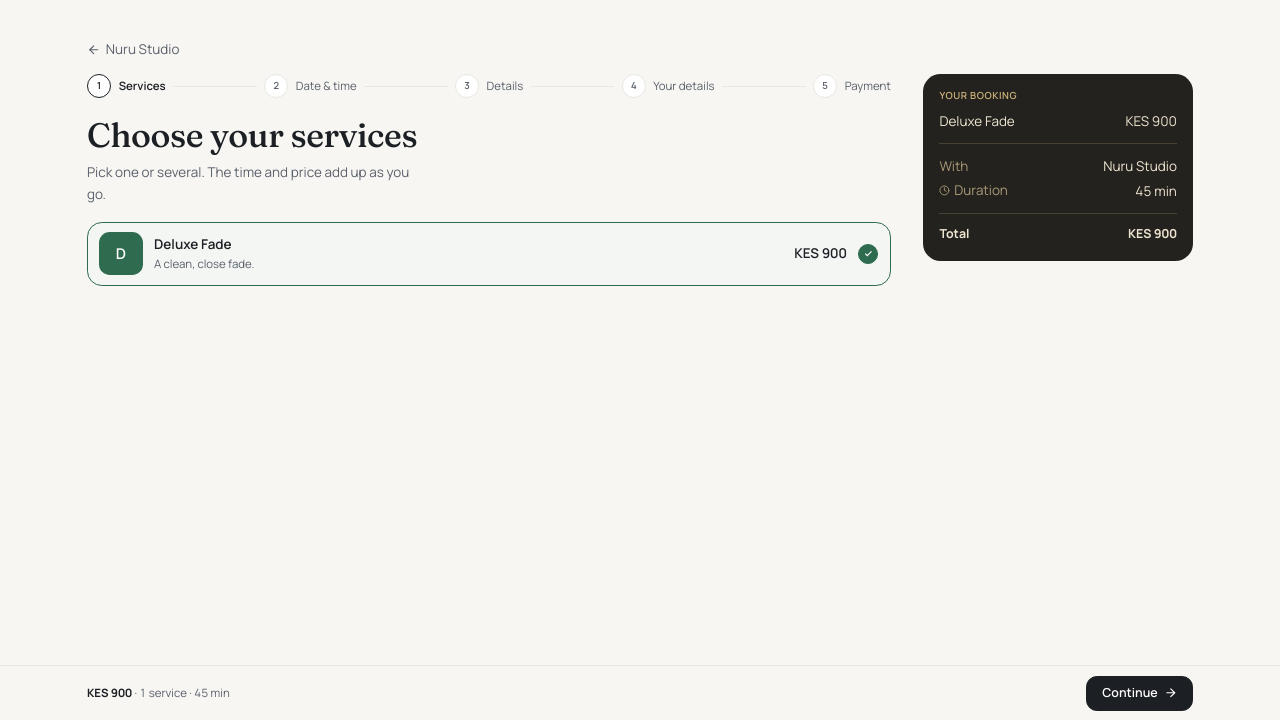
Scenario: BookingWizardPage › continues a solo booking without a render loop and goes back to services
Click the button "Continue": (1140, 693) [1086,676,1193,711]
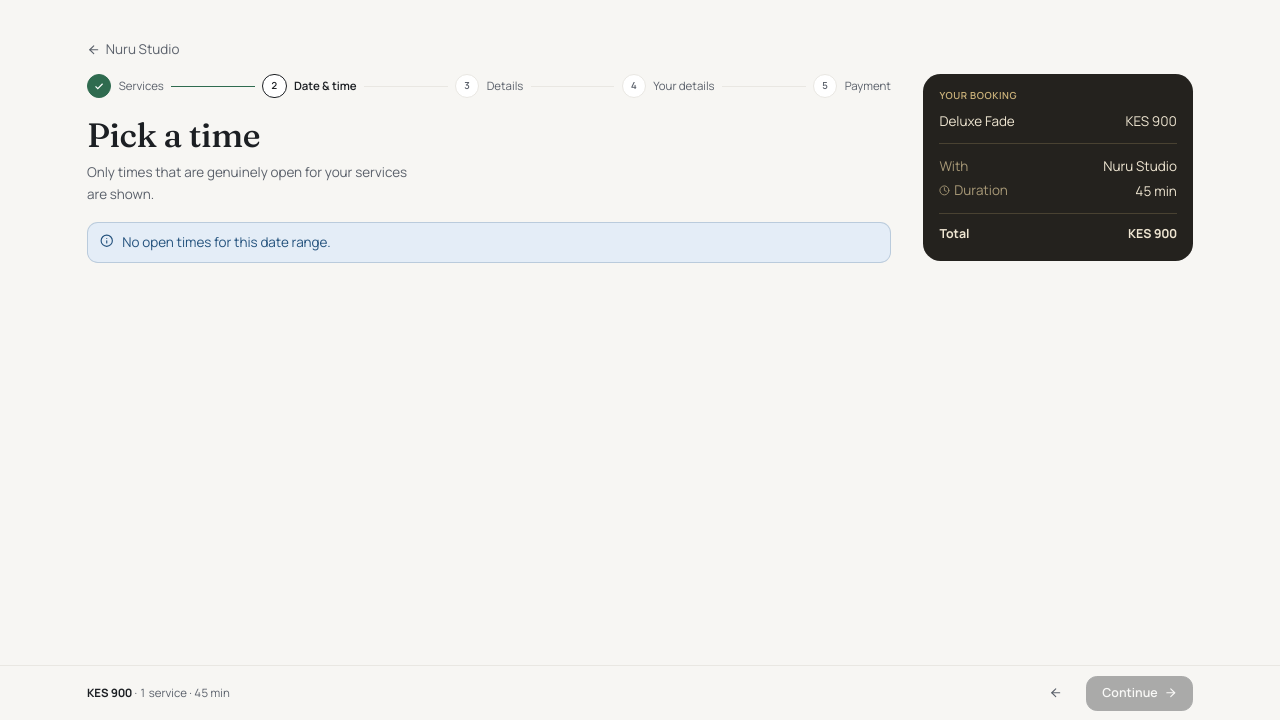
Result: the heading "Pick a time" is shown at [87,114,260,156]
Result: the list named "Step 2 of 5: Date & time" is shown at [87,74,891,98]
Result: the text "No open times for this date range." is shown at [122,233,331,251]
Click the button named "Back": (1056, 693) [1033,676,1078,711]
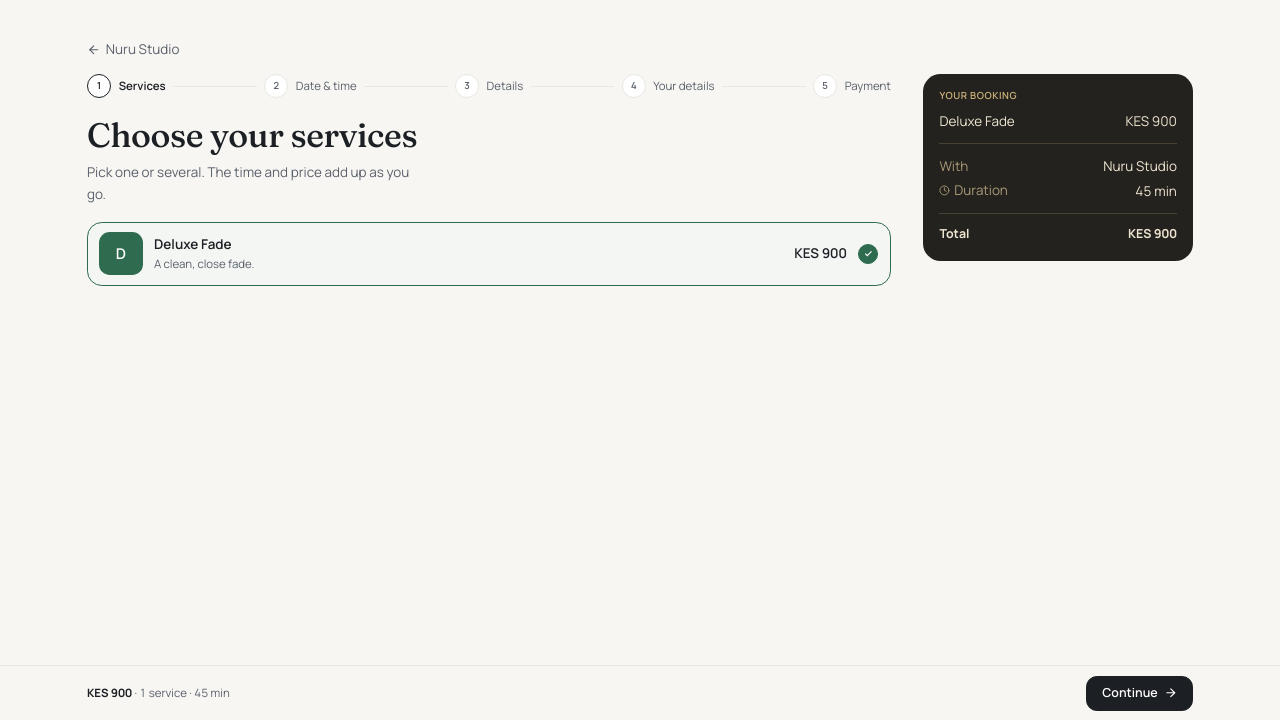
Result: the heading "Choose your services" is shown at [87,114,417,156]
